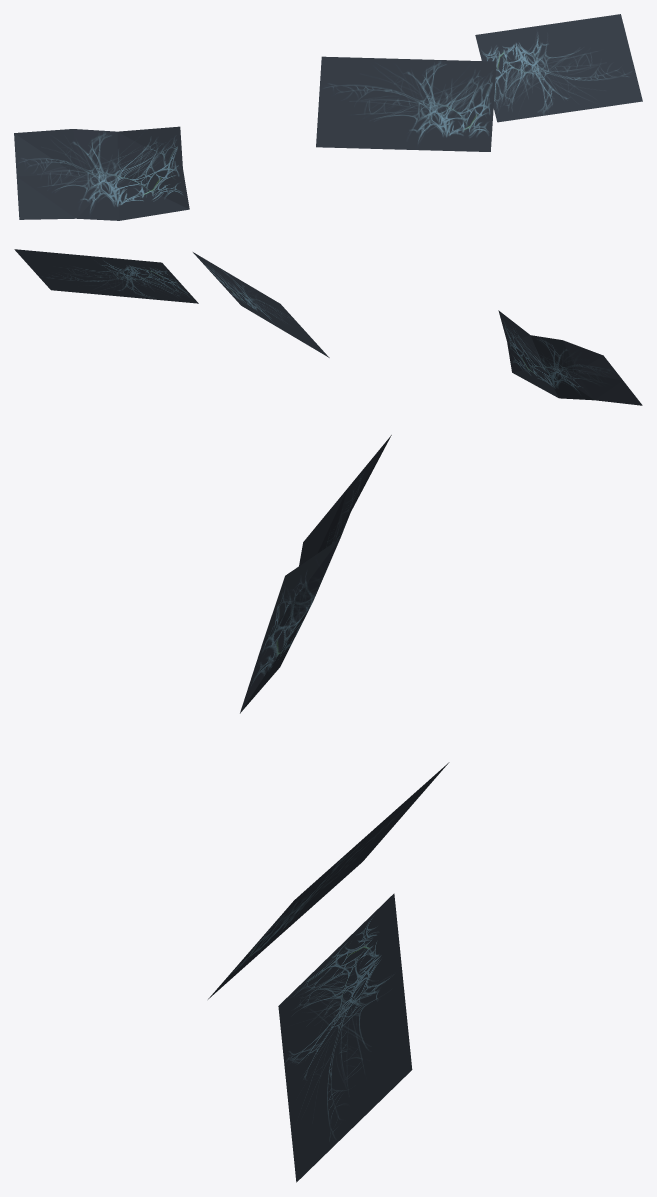
The model's file is Area_07_9.FBX.
3 views of the same model, one above another, from view 1: azimuth 30°, elevation 25°; view 2: azimuth 150°, elevation 25°; view 3: azimuth 270°, elevation 25° (orthographic). The views are drawn at different scales.
Parts seen in each view (by area): view 1: Area_07_9; view 2: Area_07_9; view 3: Area_07_9.
Part boxes in pixels (bbox=[...]): Area_07_9: bbox=[14, 14, 642, 220]; Area_07_9: bbox=[14, 249, 642, 405]; Area_07_9: bbox=[208, 435, 449, 1182].
Bounding box in the file's own units: 1803 × 266 × 317.
1 material, 1 textured.
